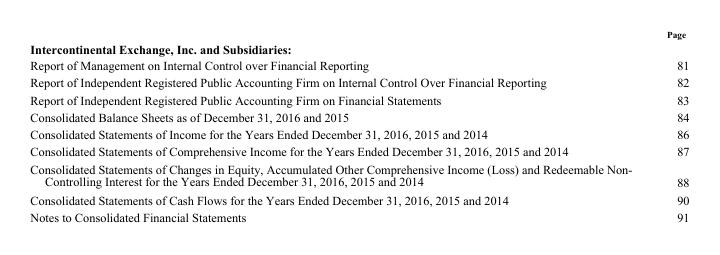table: (29, 29, 688, 223)
table column: (29, 29, 648, 223), (648, 29, 688, 223)
table column header: (29, 29, 688, 40)
table projected row header: (29, 40, 688, 56)
table row: (29, 159, 688, 190), (29, 90, 688, 108), (29, 190, 688, 208), (29, 56, 688, 73), (29, 73, 688, 90), (29, 108, 688, 125), (29, 125, 688, 142), (29, 142, 688, 159), (29, 40, 688, 56), (29, 208, 688, 223), (29, 29, 688, 40)
